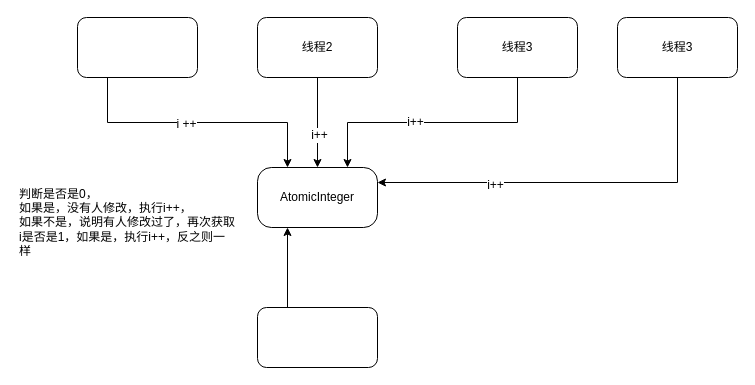
This 755x385 diagram has some shape labels left out. The centre of each missing label's shape, as x and y in pixels:
"i = 0" belongs at (317,337).
"线程1" belongs at (137,47).
